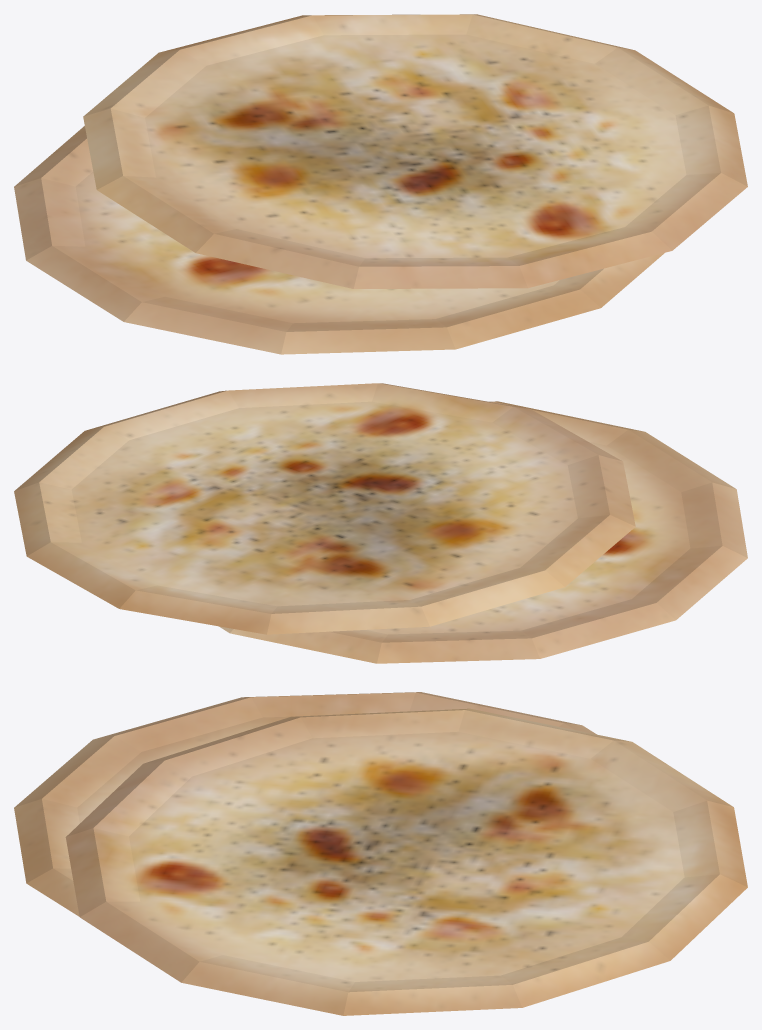
File: Flatbread_Sapph.fbx
The picture shows the model from 3 angles, top to bottom: view 1: azimuth 30°, elevation 25°; view 2: azimuth 150°, elevation 25°; view 3: azimuth 270°, elevation 25°; orthographic projection. The views are drawn at different scales.
Parts seen in each view (by area): view 1: SapphFlatbread; view 2: SapphFlatbread; view 3: SapphFlatbread.
Part boxes in pixels (x1,y1,x2,y2): SapphFlatbread: (14, 14, 747, 354); SapphFlatbread: (14, 383, 747, 663); SapphFlatbread: (14, 692, 747, 1015).
Bounding box in the file's own units: 52 × 2.98 × 48.07.
